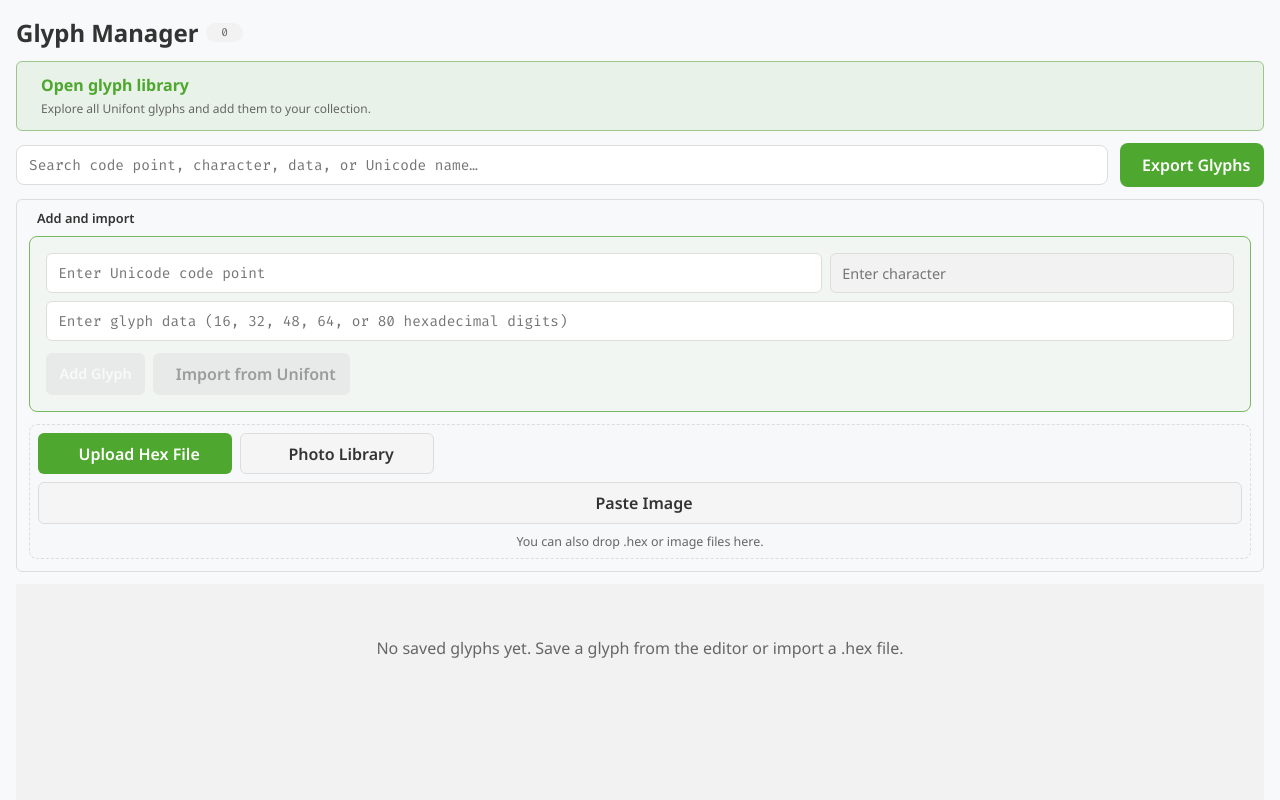
Test case: GlyphManager full-screen state › keeps the add action disabled for non-scalar Unicode code points
Type "00000000000000000000000000000000" into the field with placeholder "Enter glyph data (16, 32, 48, 64, or 80 hexadecimal digits)" at x=640, y=321, box 46,301 -> 1234,341
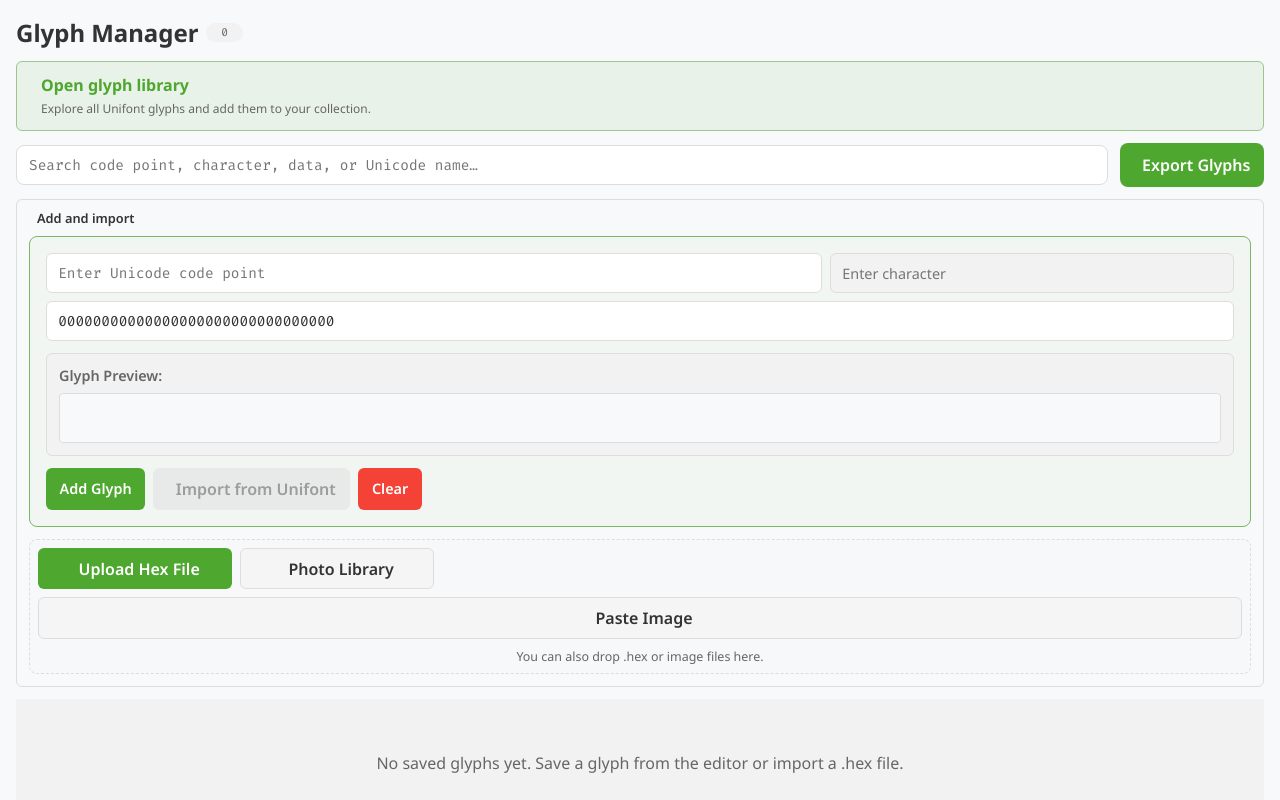
Type "D800" into the field with class "codepoint-input" at x=434, y=273, box 46,253 -> 822,293
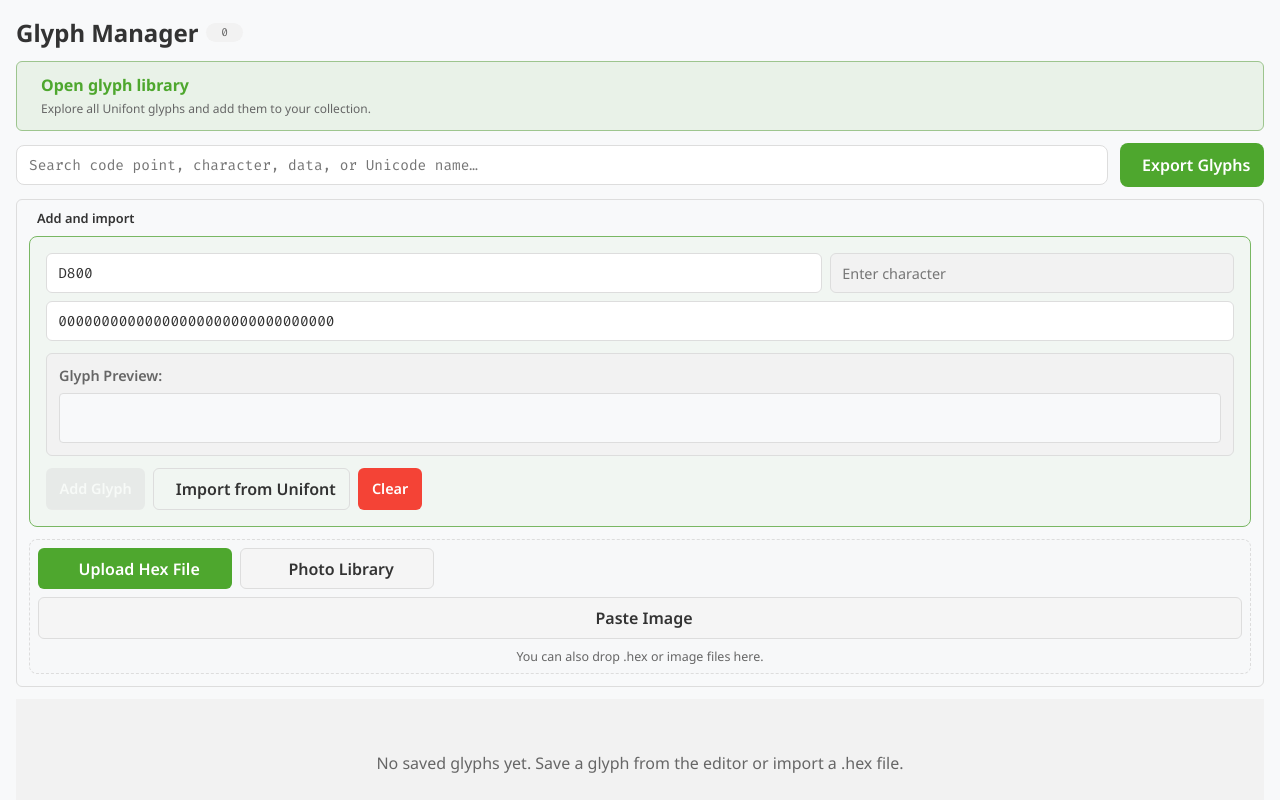
Replace the text in the field with class "codepoint-input" with "110000" at x=434, y=273, box 46,253 -> 822,293
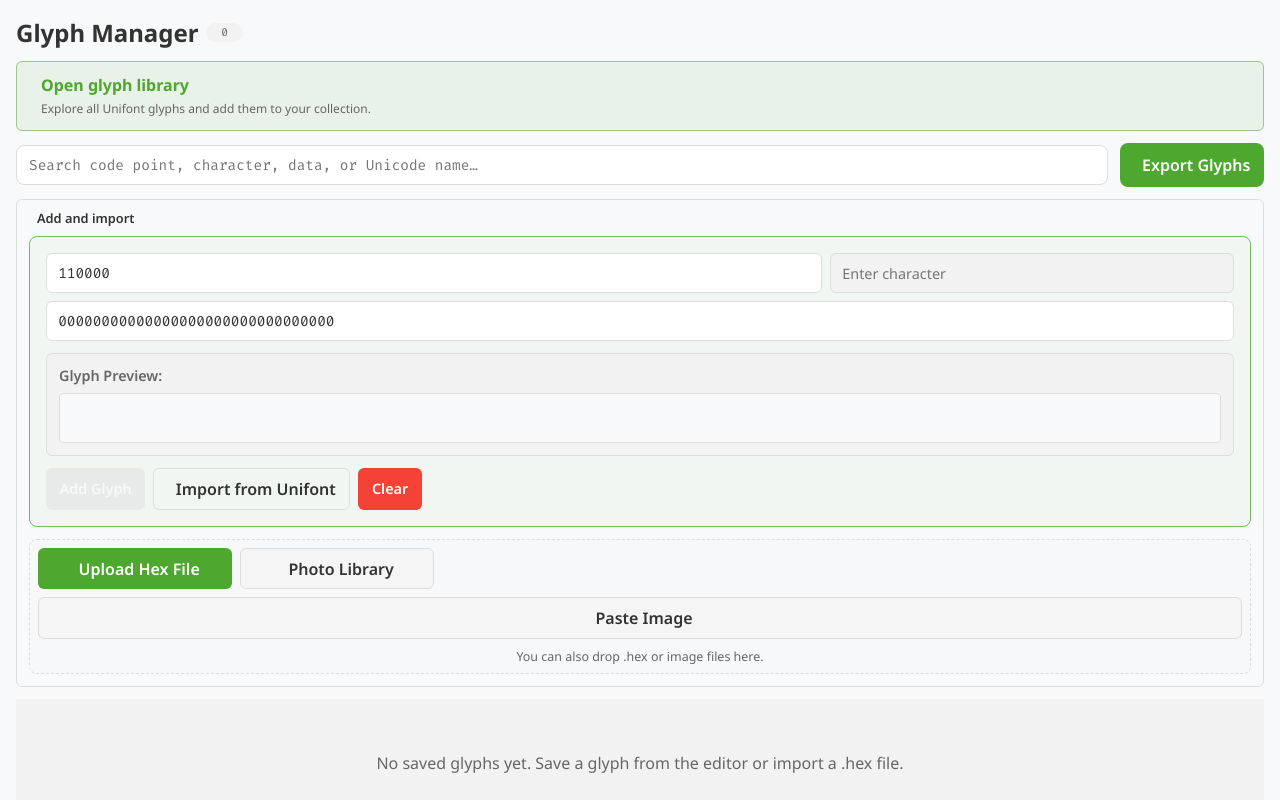
Replace the text in the field with class "codepoint-input" with "0041" at x=434, y=273, box 46,253 -> 822,293
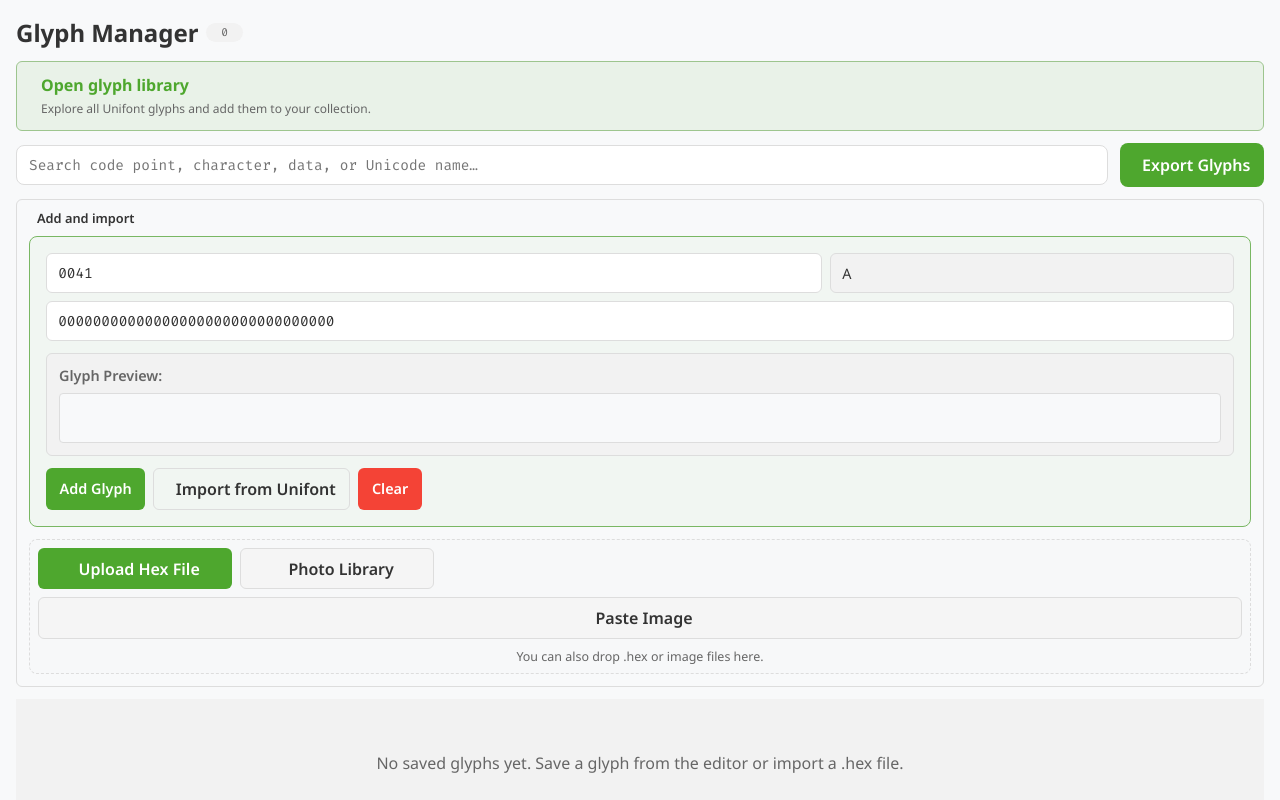
Now the button with class "btn-add" is enabled, box 46,468 -> 145,510
